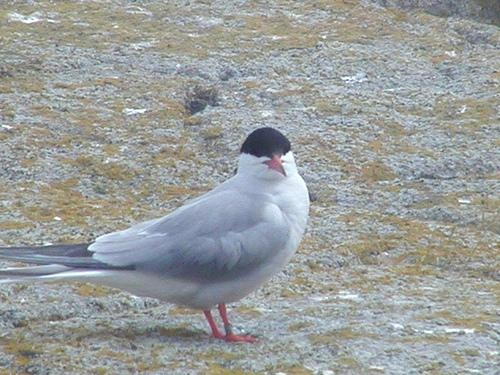bird: (2, 123, 318, 343)
